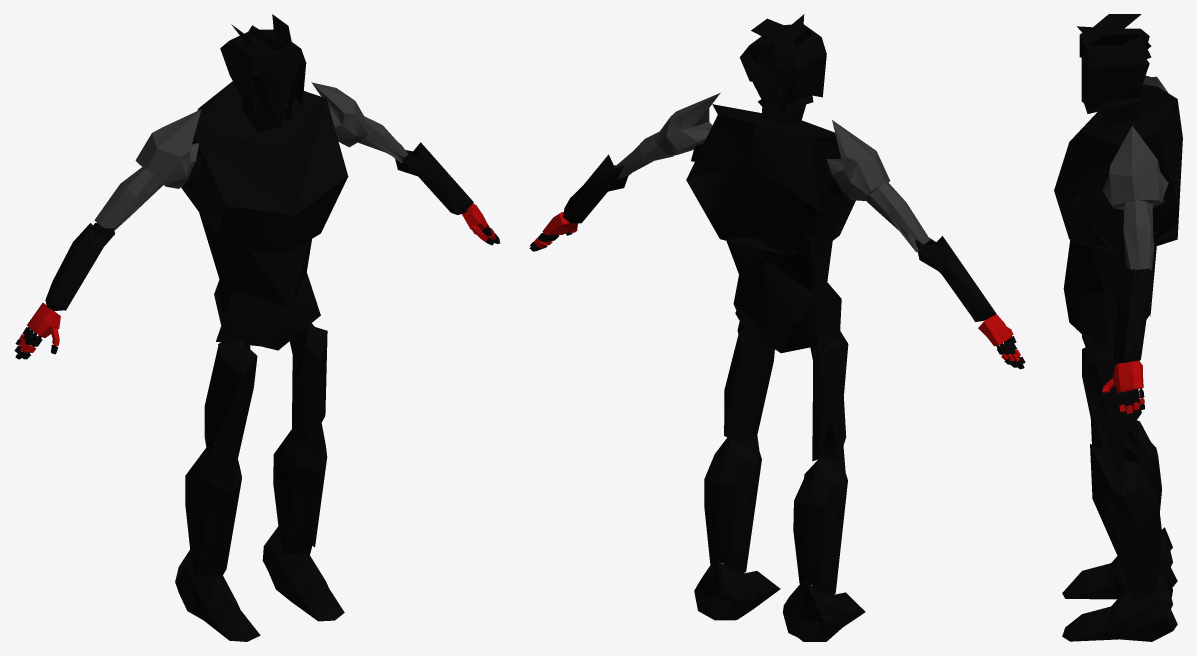
Rendered from Enemy Melee.fbx.
The picture shows the model from 3 angles, left to right: view 1: azimuth 30°, elevation 25°; view 2: azimuth 150°, elevation 25°; view 3: azimuth 270°, elevation 25°; orthographic projection.
Visible parts, largest first — view 1: Chest, Hip, Right_Lower_Leg, Left_Lower_Leg, Right_Upper_Arm, Head, Right_Upper_Leg, Left_Upper_Leg, Left_Feet, Right_Feet, Left_Upper_Arm, Right_Forearm (+3 smaller); view 2: Chest, Hip, Left_Lower_Leg, Right_Lower_Leg, Head, Right_Upper_Arm, Left_Upper_Leg, Right_Upper_Leg, Left_Feet, Right_Feet, Left_Upper_Arm, Right_Forearm (+3 smaller); view 3: Chest, Left_Lower_Leg, Head, Hip, Left_Upper_Arm, Left_Feet, Left_Upper_Leg, Left_Forearm, Right_Feet, Right_Lower_Leg, Left_Wrist, Neck.
Boxes of the visible parts, <box> form: Chest: <box>181,81,348,253</box>; Hip: <box>199,212,320,350</box>; Right_Lower_Leg: <box>185,441,241,576</box>; Left_Lower_Leg: <box>273,420,327,554</box>; Right_Upper_Arm: <box>94,109,201,230</box>; Head: <box>220,14,306,124</box>; Right_Upper_Leg: <box>204,338,257,458</box>; Left_Upper_Leg: <box>289,323,327,442</box>; Left_Feet: <box>262,526,344,621</box>; Right_Feet: <box>175,549,260,641</box>; Left_Upper_Arm: <box>311,82,408,163</box>; Right_Forearm: <box>45,223,115,310</box>; Chest: <box>686,104,855,255</box>; Hip: <box>726,238,841,353</box>; Left_Lower_Leg: <box>704,433,761,573</box>; Right_Lower_Leg: <box>793,446,847,595</box>; Head: <box>740,14,826,111</box>; Right_Upper_Arm: <box>827,120,929,252</box>; Left_Upper_Leg: <box>724,321,774,444</box>; Right_Upper_Leg: <box>810,331,848,462</box>; Left_Feet: <box>694,557,780,620</box>; Right_Feet: <box>783,579,865,641</box>; Left_Upper_Arm: <box>613,93,720,178</box>; Right_Forearm: <box>915,236,996,321</box>; Chest: <box>1054,84,1182,254</box>; Left_Lower_Leg: <box>1090,444,1161,600</box>; Head: <box>1077,14,1151,113</box>; Hip: <box>1063,230,1159,351</box>; Left_Upper_Arm: <box>1102,125,1168,270</box>; Left_Feet: <box>1062,570,1177,641</box>; Left_Upper_Leg: <box>1082,340,1141,472</box>; Left_Forearm: <box>1113,268,1153,362</box>; Right_Feet: <box>1062,527,1177,599</box>; Right_Lower_Leg: <box>1090,418,1161,545</box>; Left_Wrist: <box>1112,361,1143,392</box>; Neck: <box>1100,98,1140,127</box>.
Bounding box in the file's own units: 160 × 184 × 36.38.
